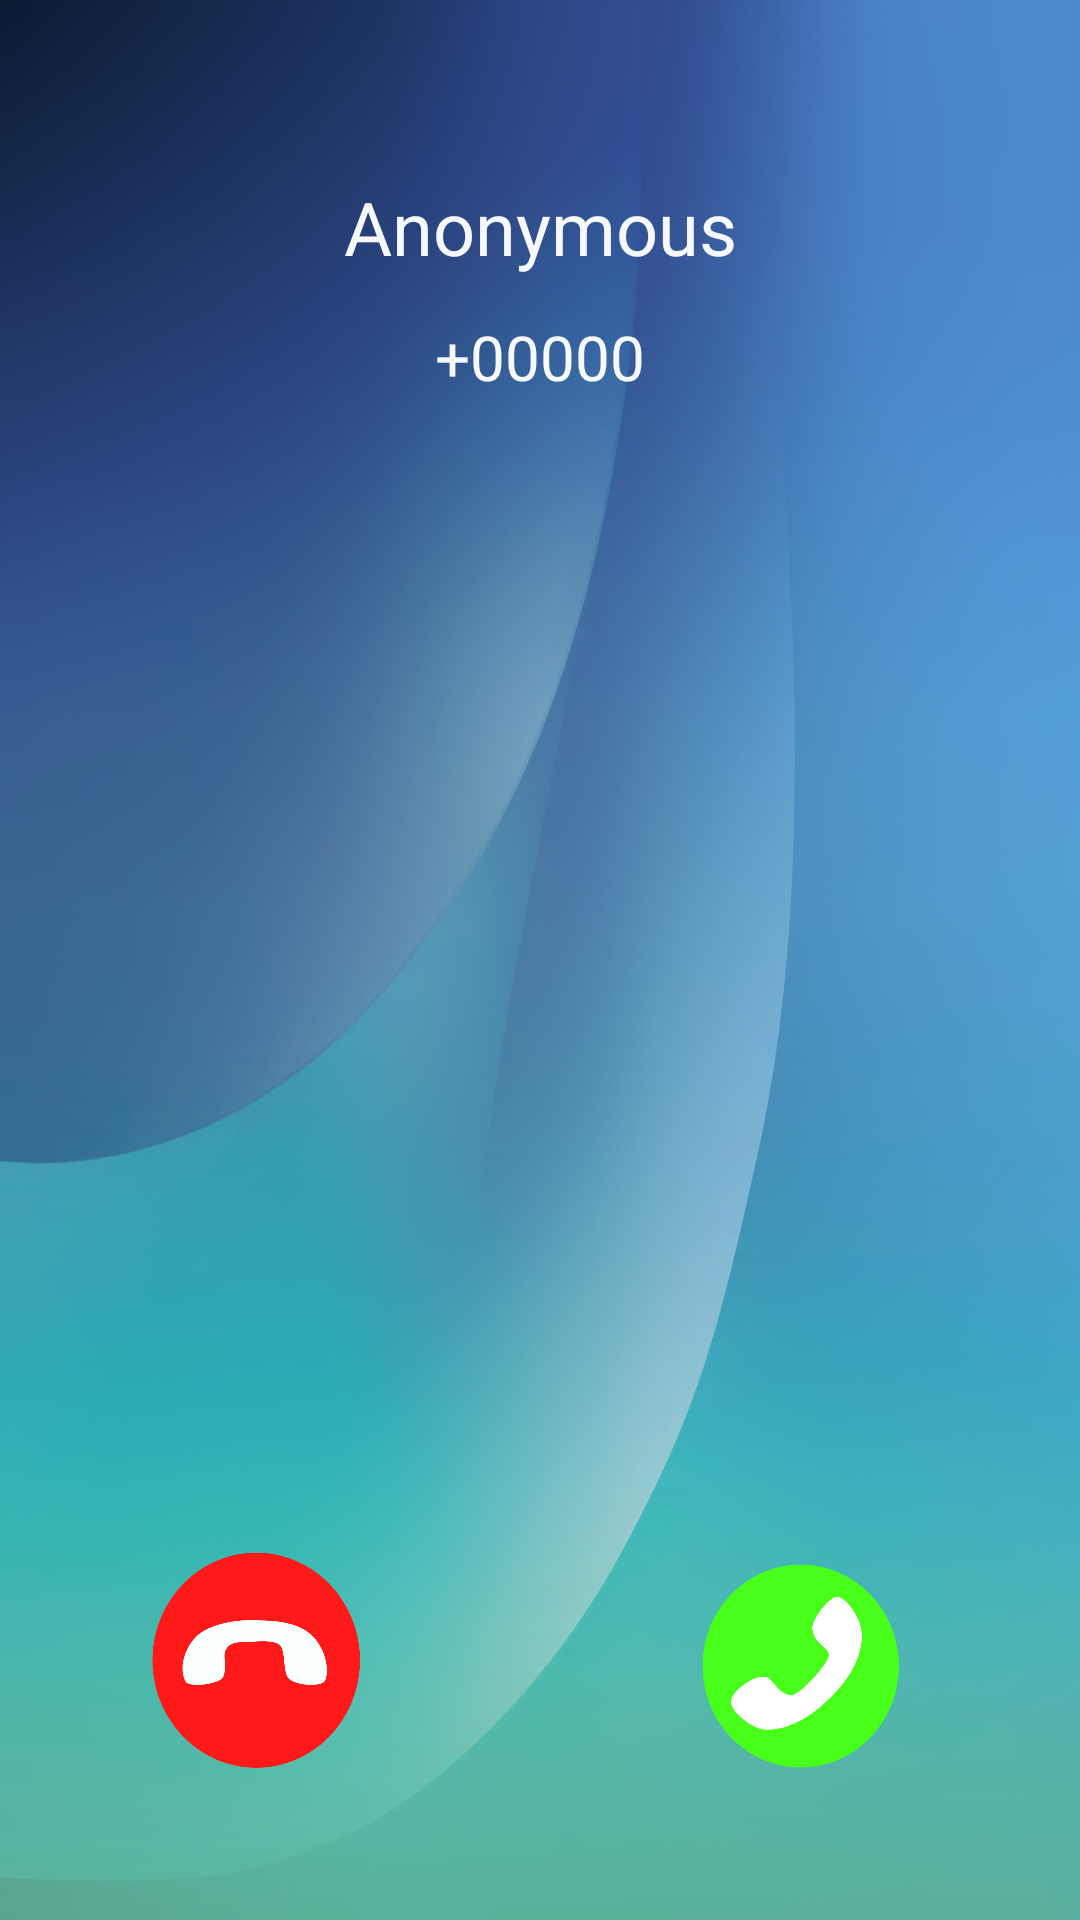

Icons on this 1080 x 1920 Android screen, each with the point to tap as (x=x, y=y):
fakecall answer: (x=801, y=1651)
fakecall deny: (x=255, y=1661)
